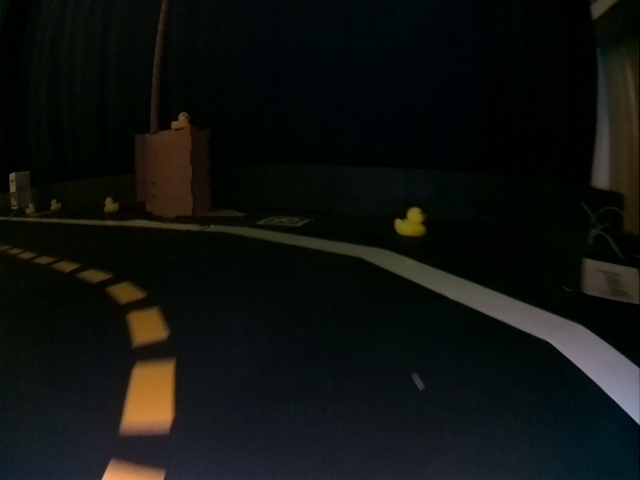Duckie: (394, 209, 424, 236), (173, 112, 187, 128), (104, 197, 116, 211), (26, 204, 35, 214), (51, 201, 60, 209)
Intersection sign: (10, 173, 16, 190)
QR code: (259, 216, 309, 226), (10, 193, 18, 208)
